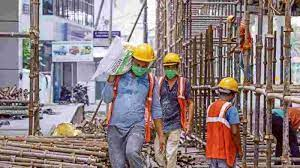arm: (226, 101, 245, 162), (99, 68, 121, 104), (151, 73, 164, 133), (178, 76, 192, 130)
face: (128, 55, 151, 75), (162, 62, 179, 77), (222, 88, 238, 103)
glove: (153, 123, 167, 151), (105, 71, 117, 85), (235, 145, 245, 160)
helmet: (127, 39, 156, 65), (212, 74, 240, 96), (160, 49, 183, 65)
human: (100, 36, 156, 166), (151, 46, 194, 166), (201, 70, 247, 166)
leg: (125, 121, 146, 167), (106, 123, 125, 167), (163, 125, 181, 167)
noglove: (235, 146, 245, 159)
nogoggle: (130, 57, 149, 65), (163, 63, 177, 69), (224, 90, 236, 96)
novest: (105, 67, 152, 129), (155, 73, 186, 124)
vest: (204, 98, 238, 156), (156, 73, 187, 123)
